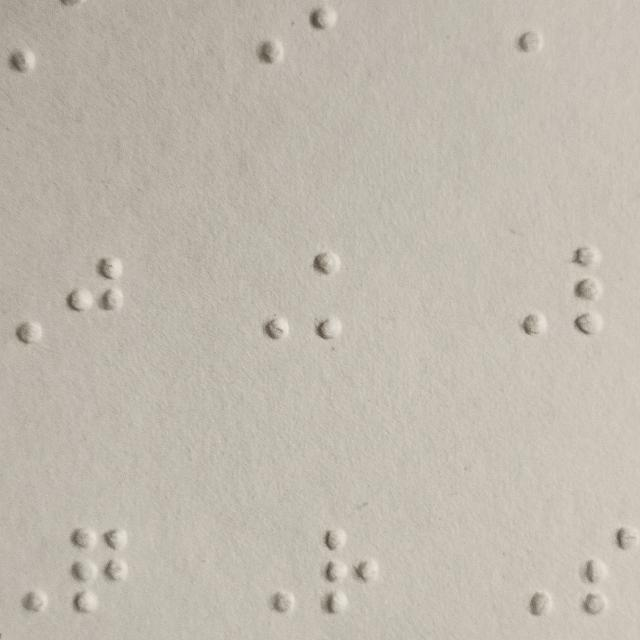K: (315, 253, 373, 337)
L: (573, 248, 630, 336)
Q: (72, 527, 129, 612)
R: (325, 527, 383, 612)
T: (583, 528, 636, 613)
capital: (496, 534, 554, 618), (238, 528, 295, 613), (234, 253, 291, 337), (493, 251, 550, 335), (0, 527, 49, 612)
